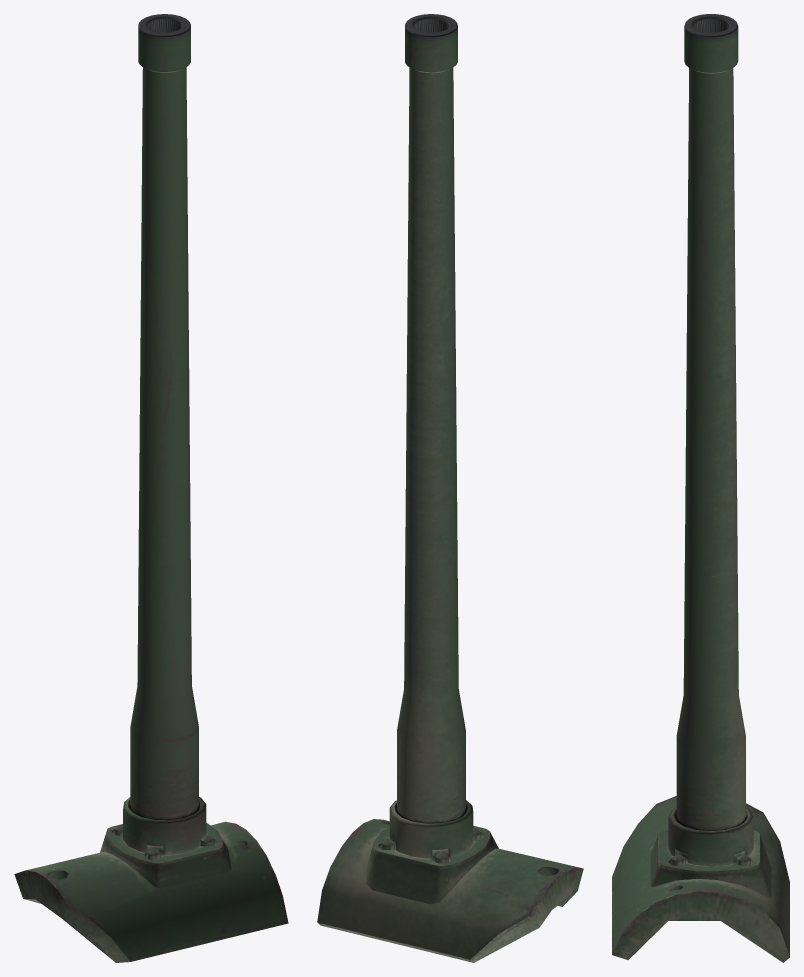
Rendered from Gun_02.glb.
The picture shows the model from 3 angles, left to right: view 1: azimuth 30°, elevation 25°; view 2: azimuth 150°, elevation 25°; view 3: azimuth 270°, elevation 25°; orthographic projection.
Parts seen in each view (by area): view 1: set_0_group_0; view 2: set_0_group_0; view 3: set_0_group_0.
Boxes of the visible parts, x1,y1,x2,y2 form: set_0_group_0: (14,14,288,962); set_0_group_0: (317,14,583,962); set_0_group_0: (612,14,789,962).
Bounding box in the file's own units: 0.8031 × 3.42 × 0.6119.
1 material, 1 textured.
